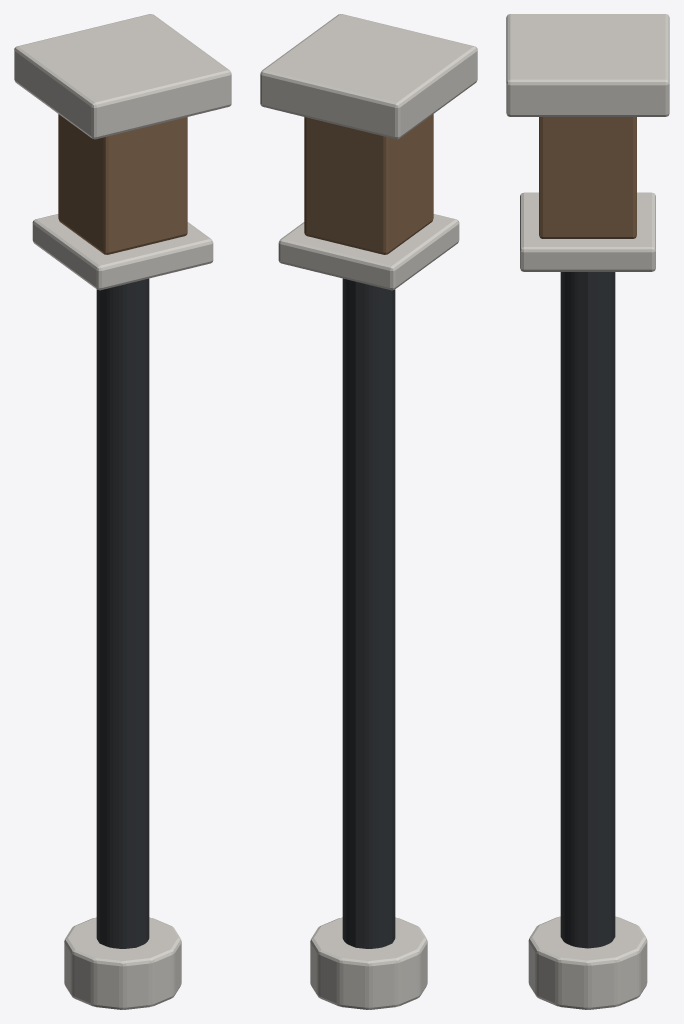
File: SM_Kit_Prop_LampPost.glb
The picture shows the model from 3 angles, left to right: view 1: azimuth 30°, elevation 25°; view 2: azimuth 150°, elevation 25°; view 3: azimuth 270°, elevation 25°; orthographic projection.
Visible parts, largest first — view 1: SM_Kit_Prop_LampPost; view 2: SM_Kit_Prop_LampPost; view 3: SM_Kit_Prop_LampPost.
Part boxes in pixels (x1=…): SM_Kit_Prop_LampPost: x1=14, y1=14, x2=231, y2=1009; SM_Kit_Prop_LampPost: x1=260, y1=14, x2=477, y2=1009; SM_Kit_Prop_LampPost: x1=506, y1=14, x2=669, y2=1009.
Size of the model in its own units: 0.6 by 3.8 by 0.6.
